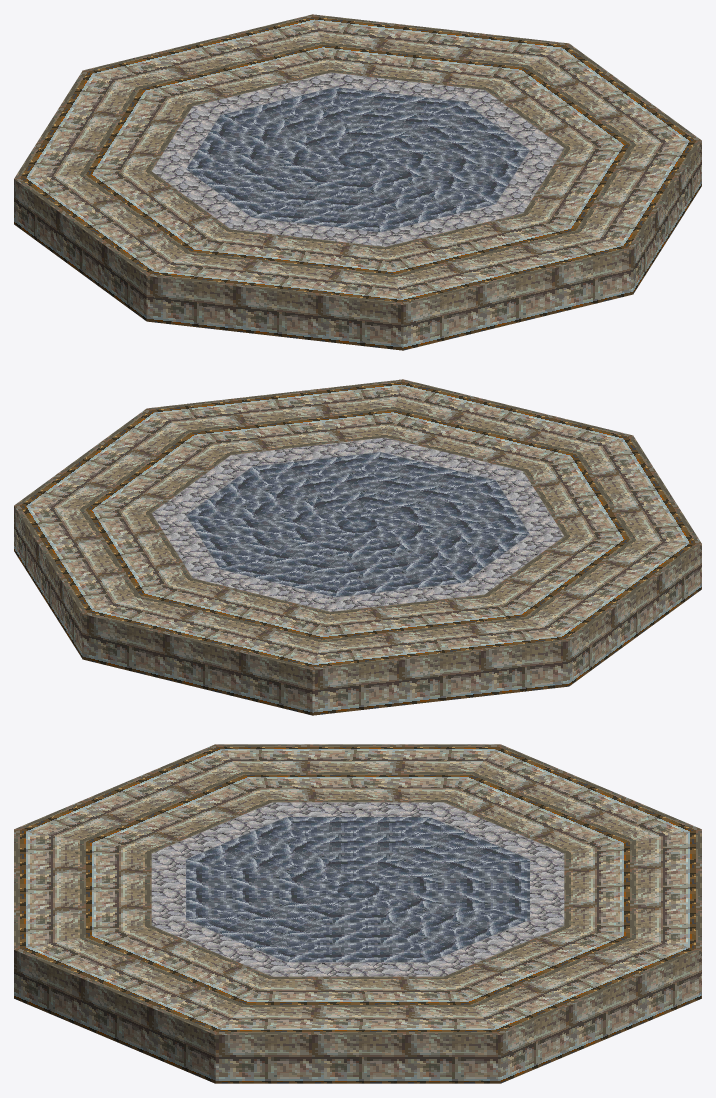
The model's file is kb2_stage.obj.
The picture shows the model from 3 angles, top to bottom: view 1: azimuth 30°, elevation 25°; view 2: azimuth 150°, elevation 25°; view 3: azimuth 270°, elevation 25°; orthographic projection. The views are drawn at different scales.
Parts seen in each view (by area): view 1: world_root; view 2: world_root; view 3: world_root.
Part boxes in pixels (bbox=[...]): world_root: bbox=[14, 14, 701, 350]; world_root: bbox=[14, 379, 701, 715]; world_root: bbox=[14, 744, 701, 1083].
Bounding box in the file's own units: 693 × 188 × 693.
